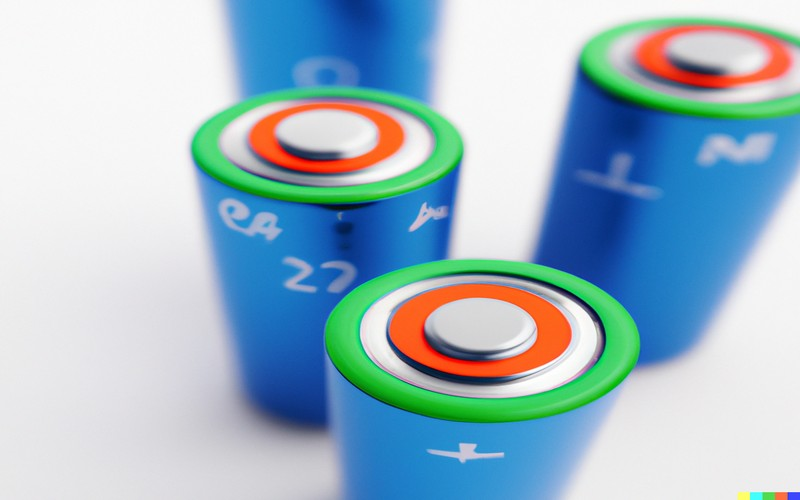Battery: (178, 74, 489, 430), (320, 223, 668, 500)
